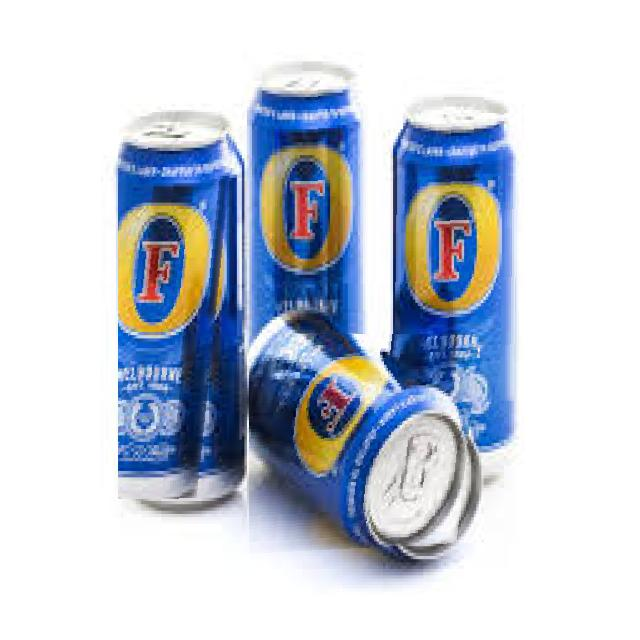Cans: (249, 334, 481, 555), (118, 110, 237, 500), (395, 113, 518, 406), (250, 75, 360, 320)
